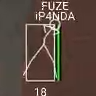hacks_1: (22, 1, 76, 96)
